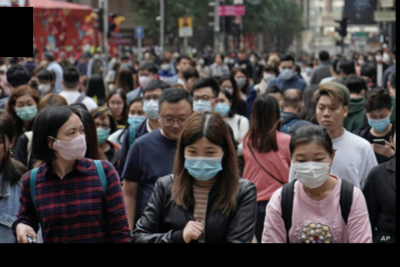with_mask: (292, 150, 332, 191), (184, 143, 225, 182), (54, 124, 87, 165), (141, 93, 164, 122), (191, 94, 215, 119), (367, 111, 391, 134), (15, 100, 37, 124), (93, 119, 111, 146), (126, 108, 147, 129), (136, 71, 154, 89), (215, 97, 231, 116), (278, 65, 295, 79), (37, 79, 51, 94), (263, 69, 277, 82), (235, 74, 247, 89), (221, 83, 233, 98), (375, 52, 384, 64), (357, 55, 366, 66), (161, 61, 170, 71), (367, 52, 375, 62), (93, 52, 101, 60), (249, 55, 256, 64), (305, 65, 312, 74), (199, 56, 205, 66)
without_mask: (314, 101, 345, 132), (159, 110, 190, 141), (107, 98, 123, 118), (178, 60, 191, 74)
